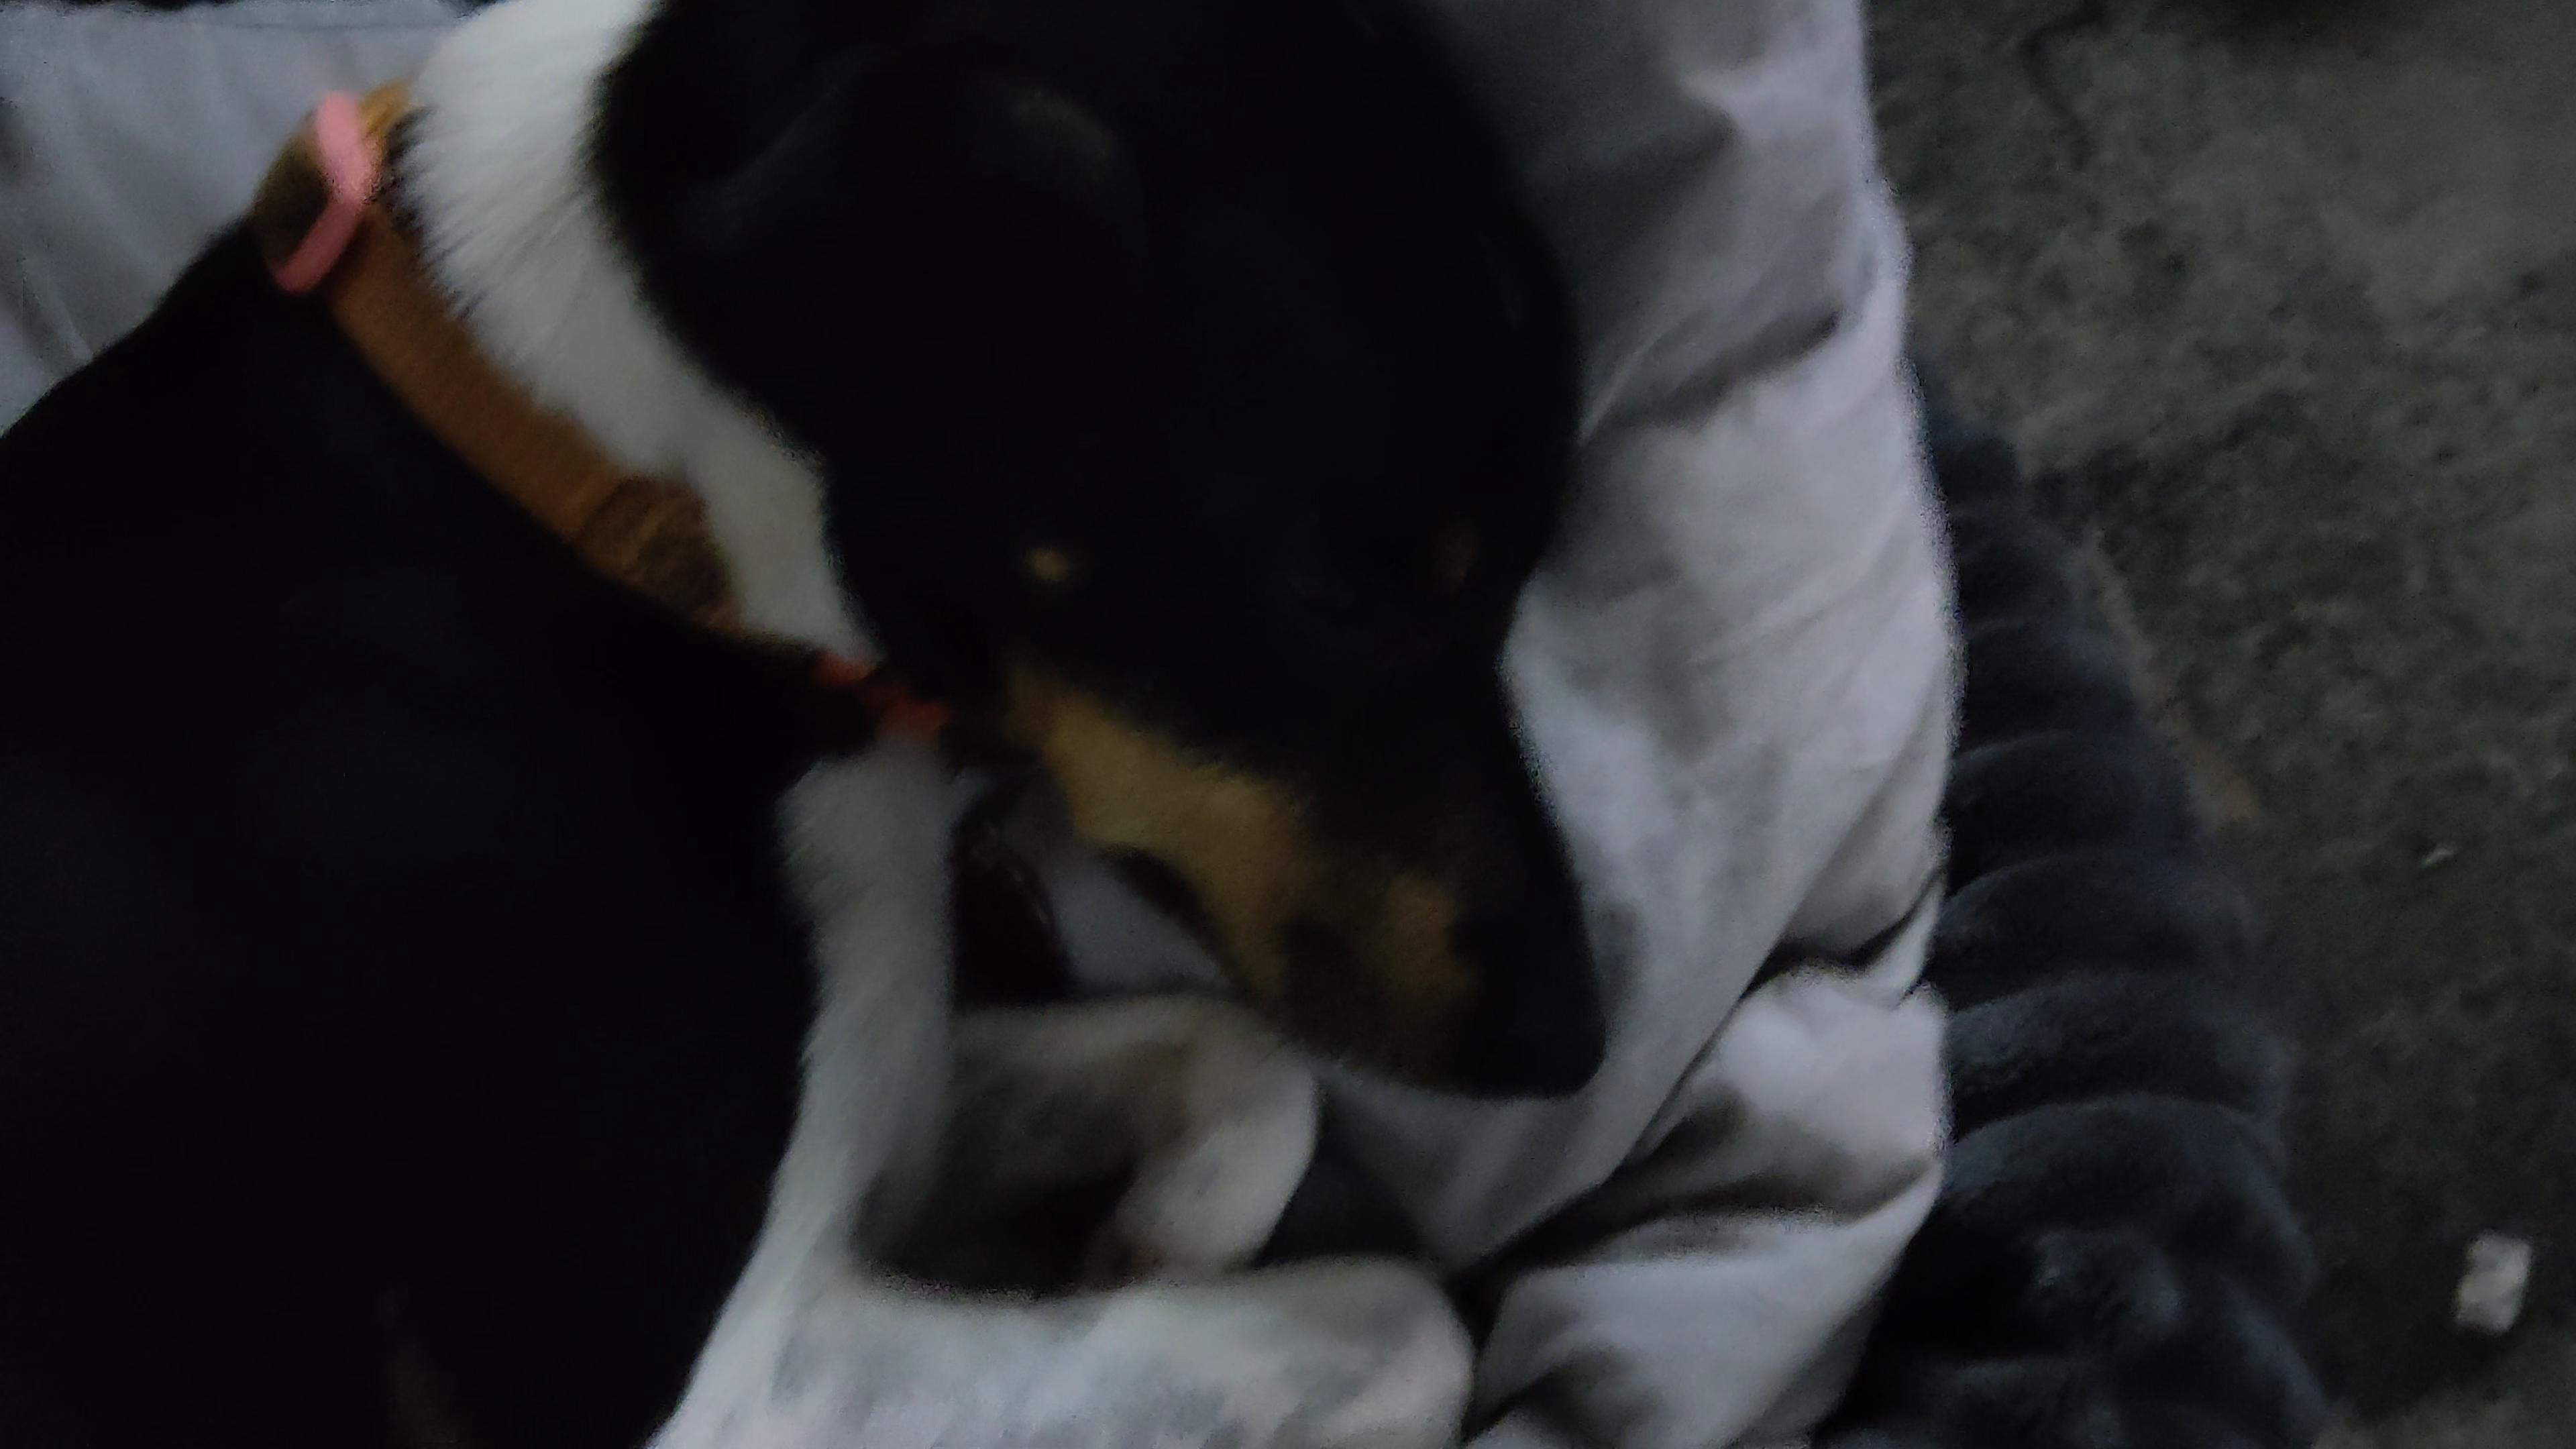Dog: (0, 0, 1621, 1449)
